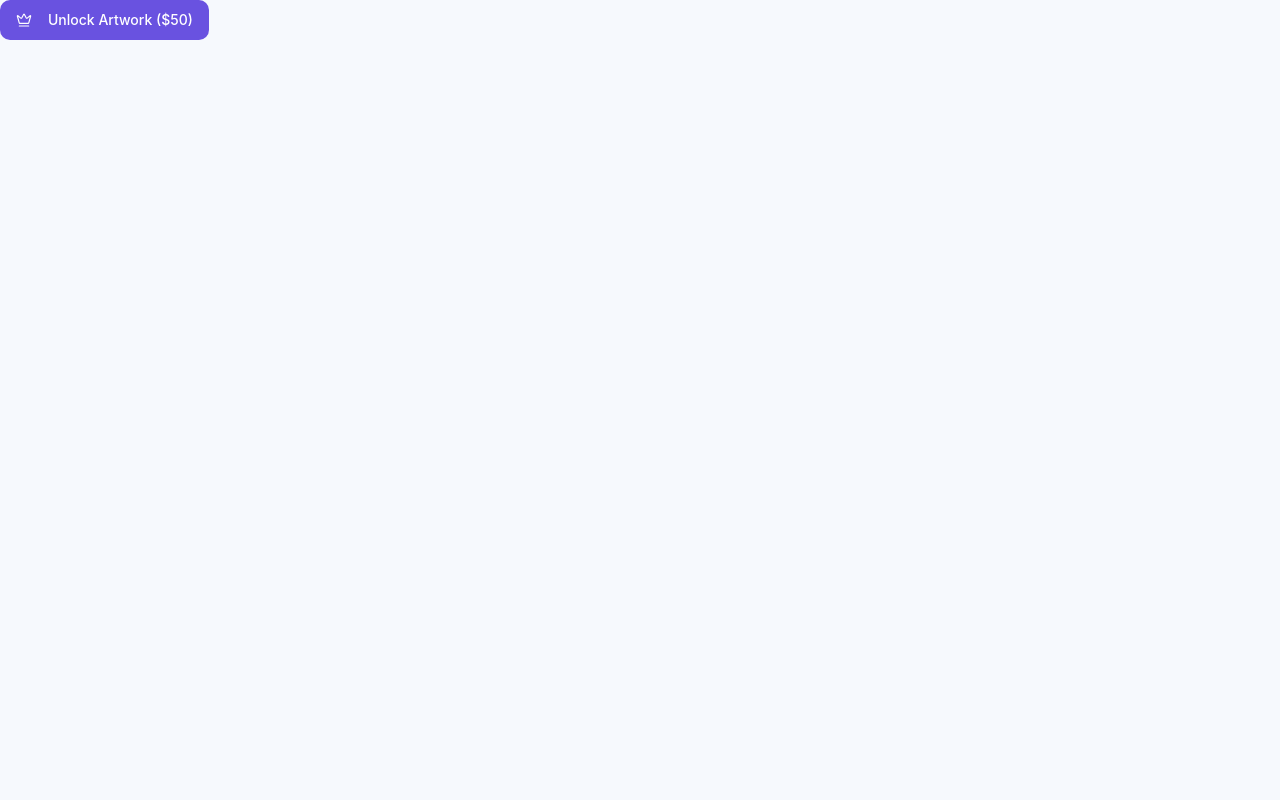
Test: PayArtworkButton — Stripe flow › restores normal state after a timeout failure
Click the button "Unlock Artwork ($50)" at (104, 20), box [0,0,209,40]
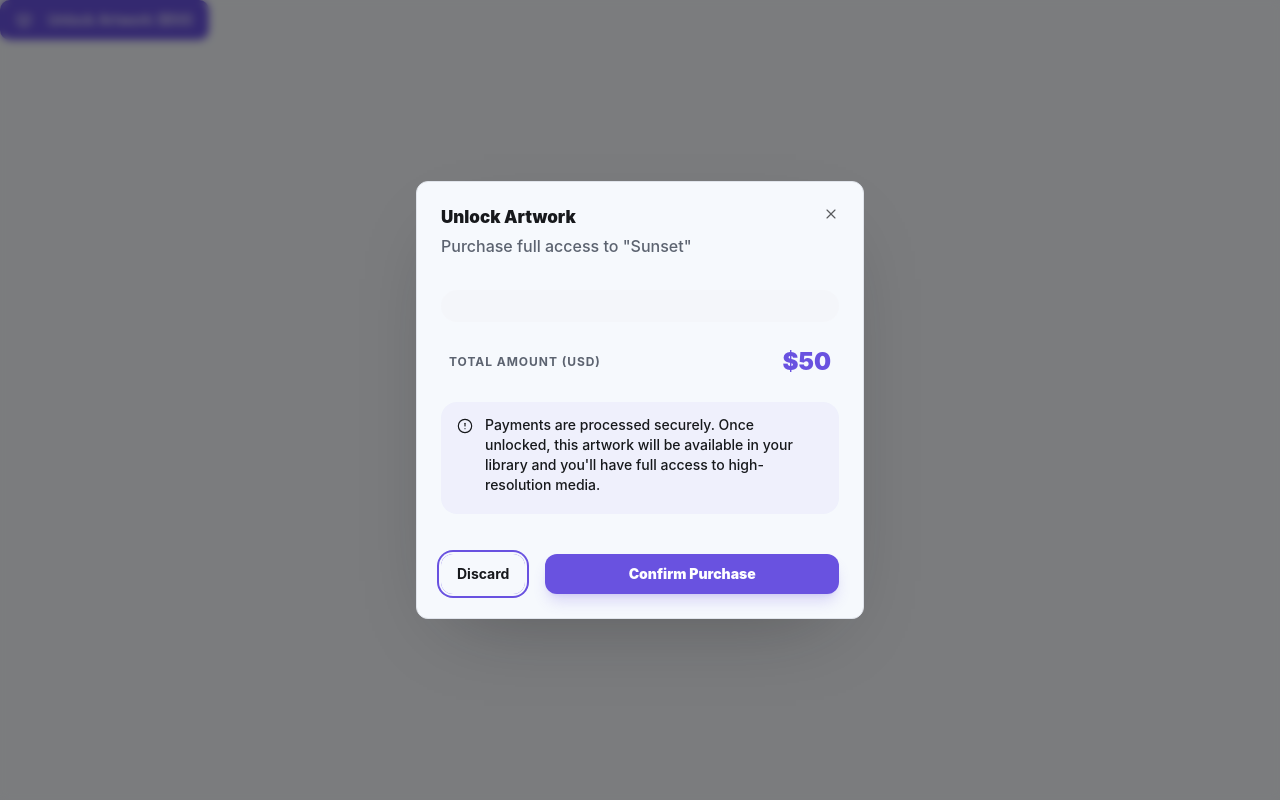
Click the button "Confirm Purchase" at (692, 574), box [545,554,839,594]
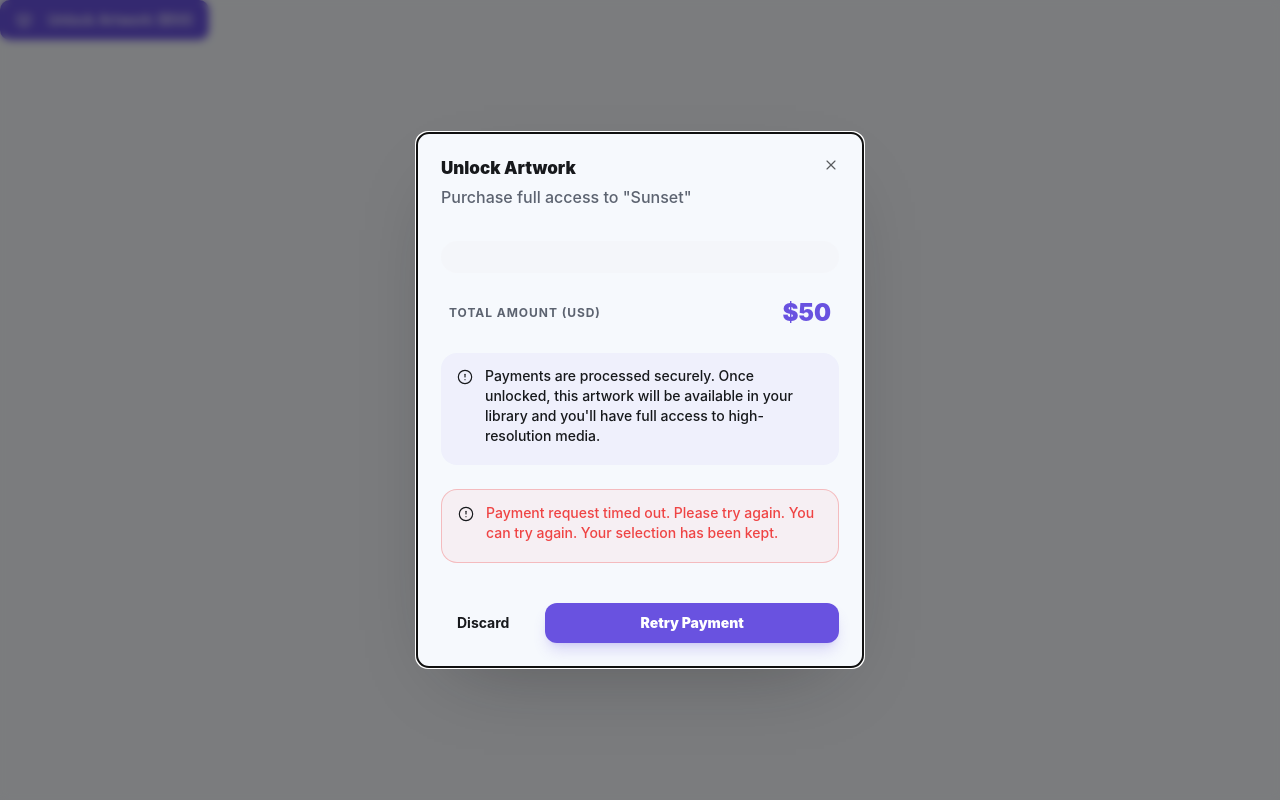
Expected: the button "Retry Payment" is enabled, [545,603,839,643]
Expected: the message with test id "stripe-error" shows "timed out", [486,504,785,521]
